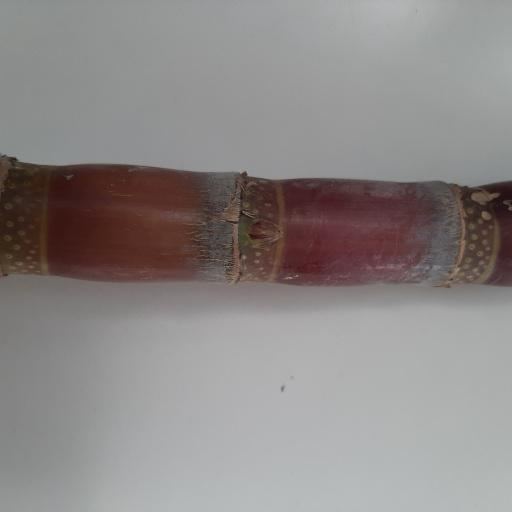Bud: (246, 219, 284, 246)
